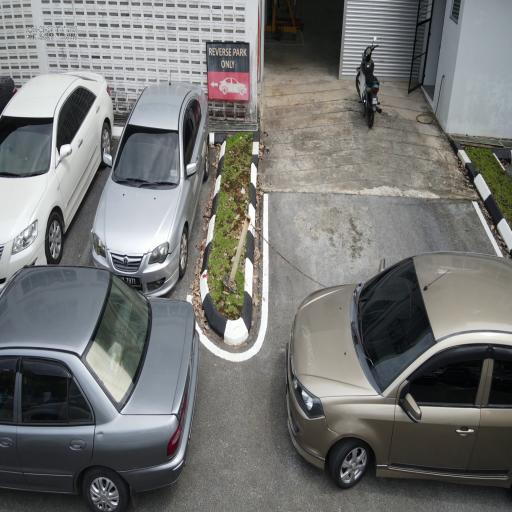Illegal: (284, 250, 512, 503), (0, 262, 202, 512)
Occupied: (72, 127, 222, 339)
